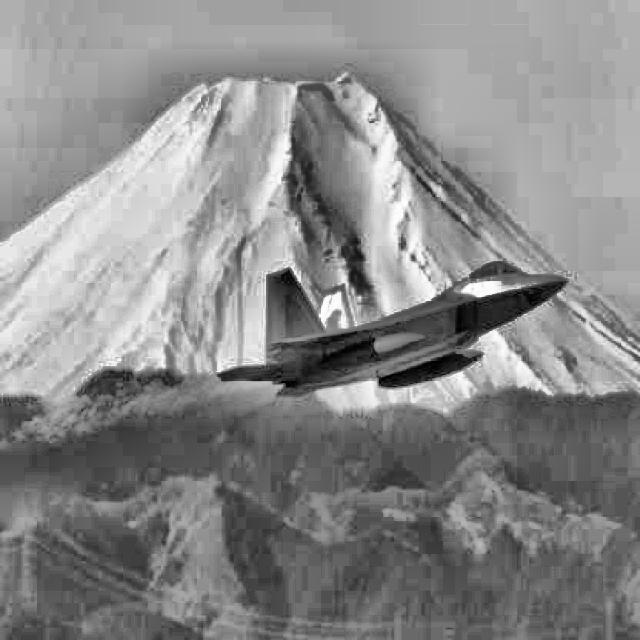F22: (214, 259, 568, 398)
